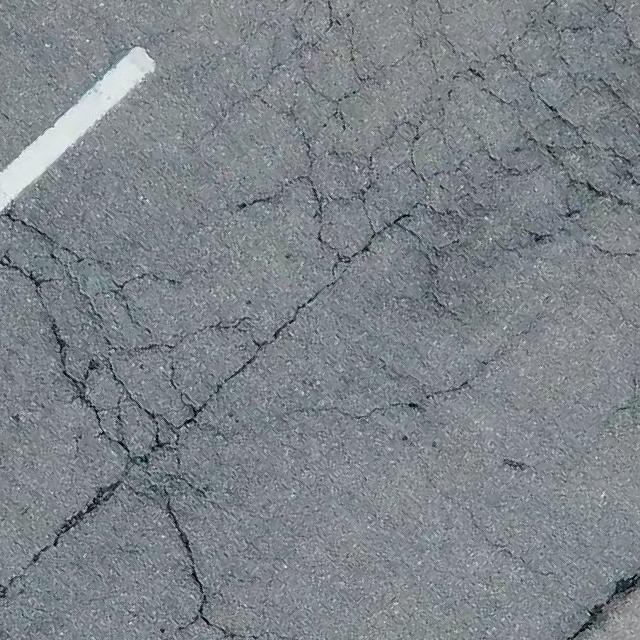GRIETA: (0, 487, 114, 604), (456, 502, 550, 576), (166, 499, 212, 627), (565, 575, 639, 639), (274, 278, 341, 339), (293, 401, 425, 420), (426, 382, 468, 400)
PIEL DE COCODRILO: (241, 0, 639, 289), (0, 201, 273, 500)
